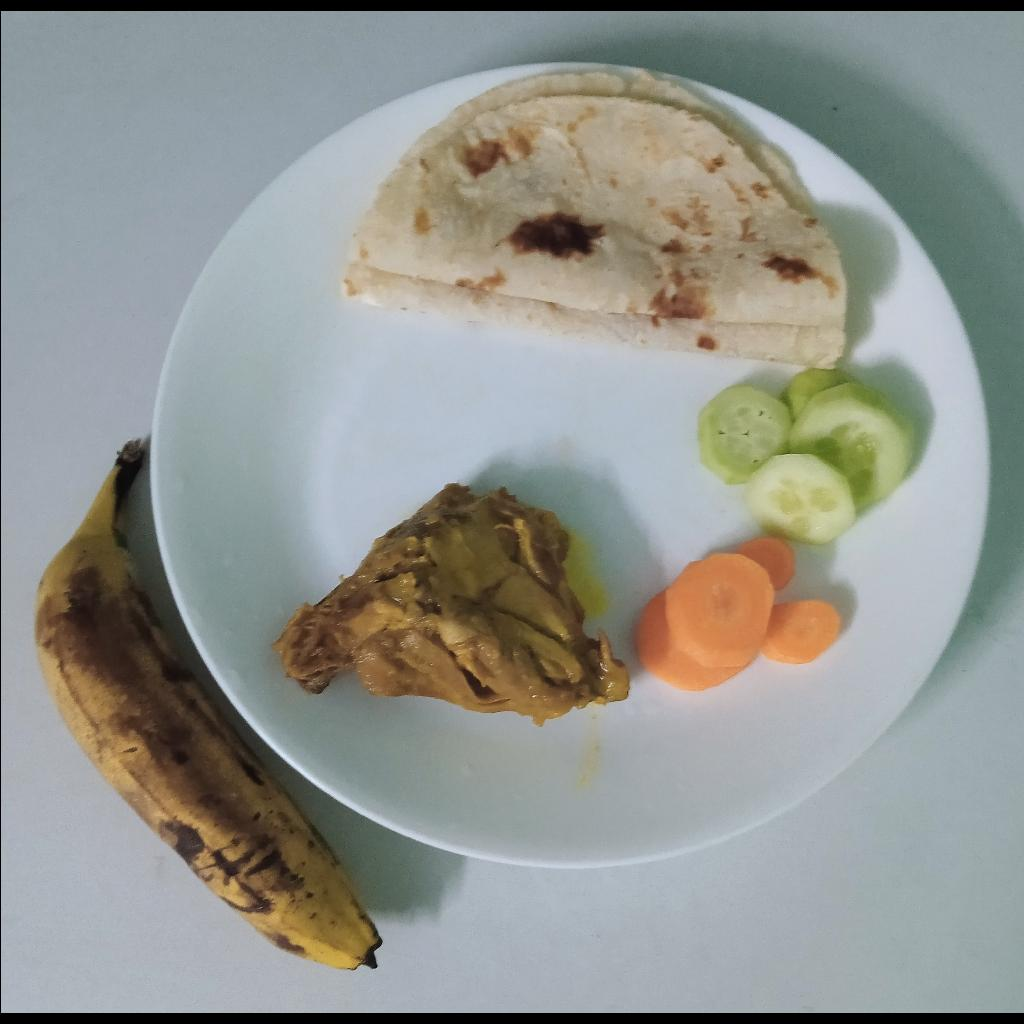banana: (34, 476, 382, 977)
carrot: (634, 536, 841, 693)
chicken: (273, 482, 632, 722)
cucumber: (695, 371, 914, 546)
ruti: (345, 76, 851, 371)
